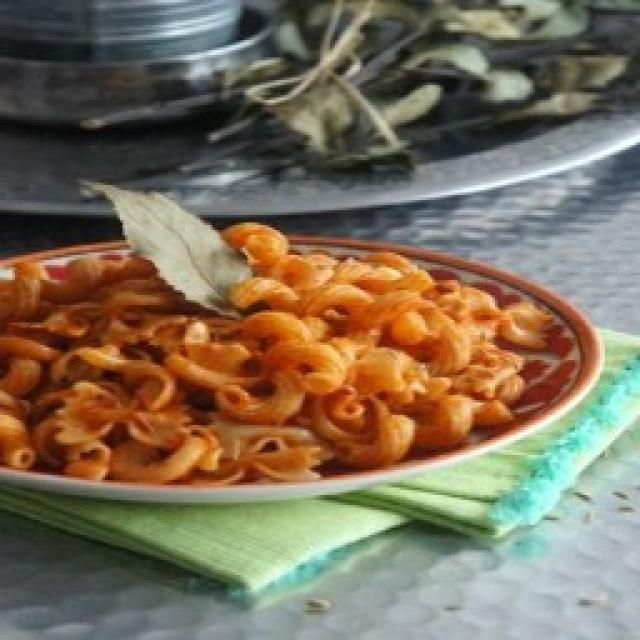Pasta: (0, 222, 570, 484)
